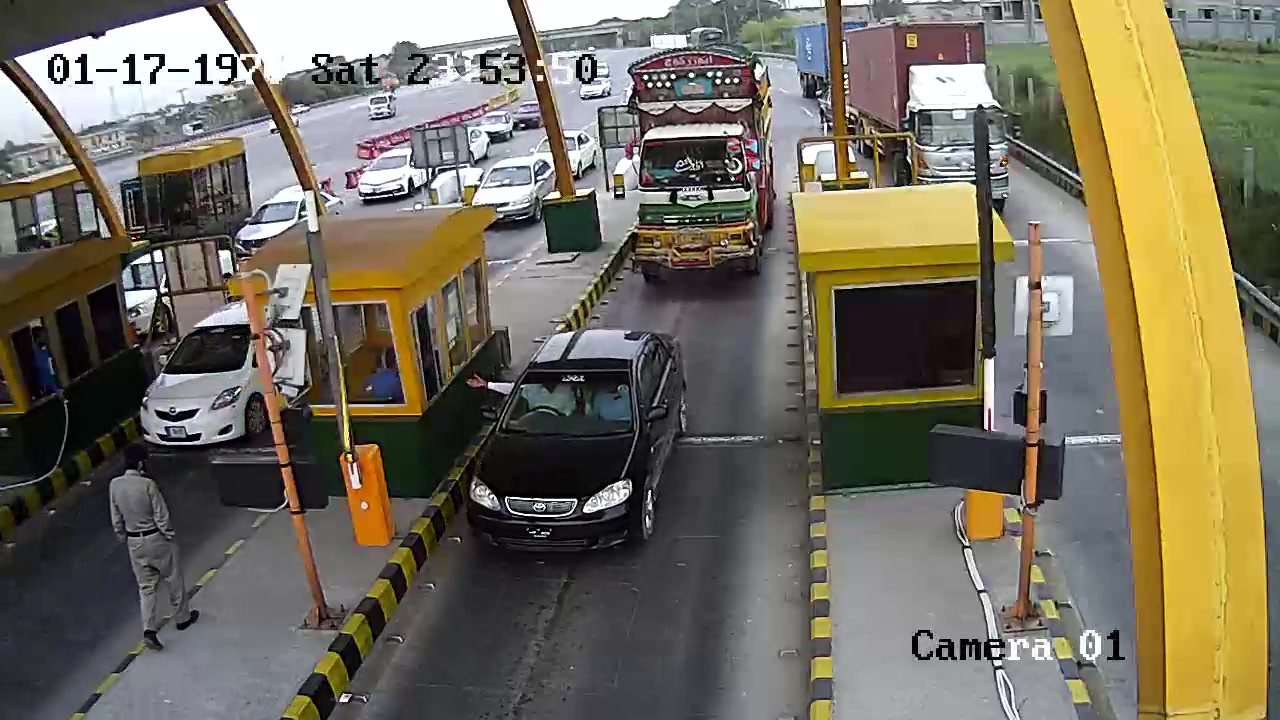F1: (452, 327, 698, 571)
